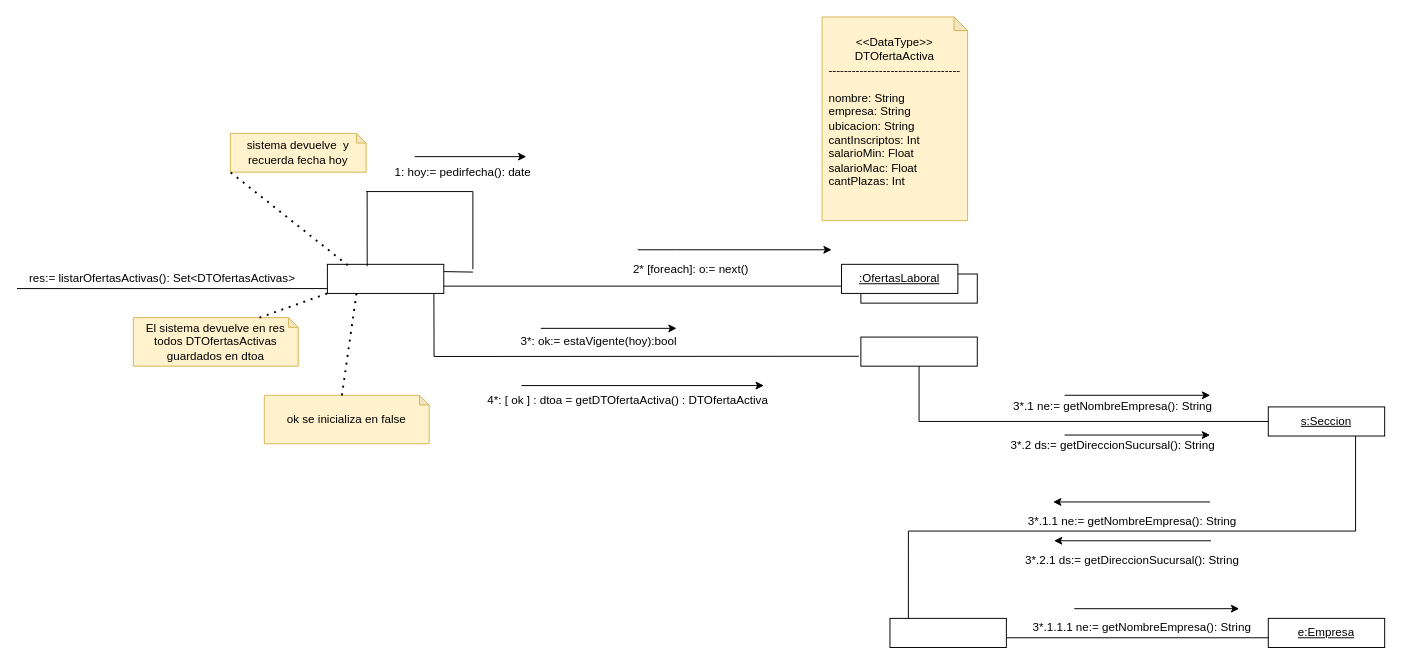
Image size: 1402x664. Some labels were removed from this diagram. The shapes that lost their labels are listed below. From the top down, each one's centre as x and y in pixels, then its label:
the point at 385,278: :Sistema
the point at 918,351: o:OfertaLaboral
the point at 947,632: su:Sucursal
